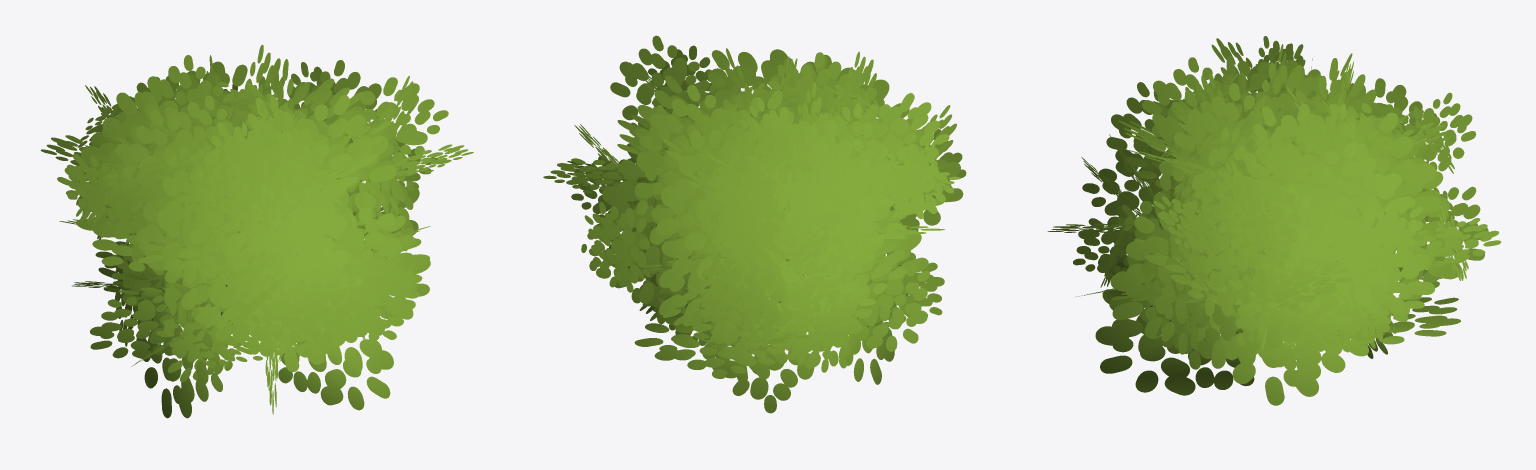
File: bush_common_33.gltf
3 renders of one model, left to right at view 1: azimuth 30°, elevation 25°; view 2: azimuth 150°, elevation 25°; view 3: azimuth 270°, elevation 25°, orthographic.
Visible parts, largest first — view 1: bush_common_33; view 2: bush_common_33; view 3: bush_common_33.
Boxes of the visible parts, x1,y1,x2,y2 form: bush_common_33: (40, 44, 473, 418); bush_common_33: (543, 35, 966, 413); bush_common_33: (1047, 36, 1501, 405).
Bounding box in the file's own units: 0.9617 × 0.8257 × 0.9861.
1 material, 1 textured.
